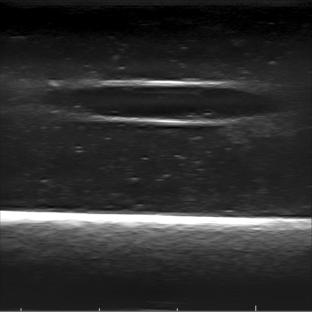vessel: (54, 79, 277, 128)
